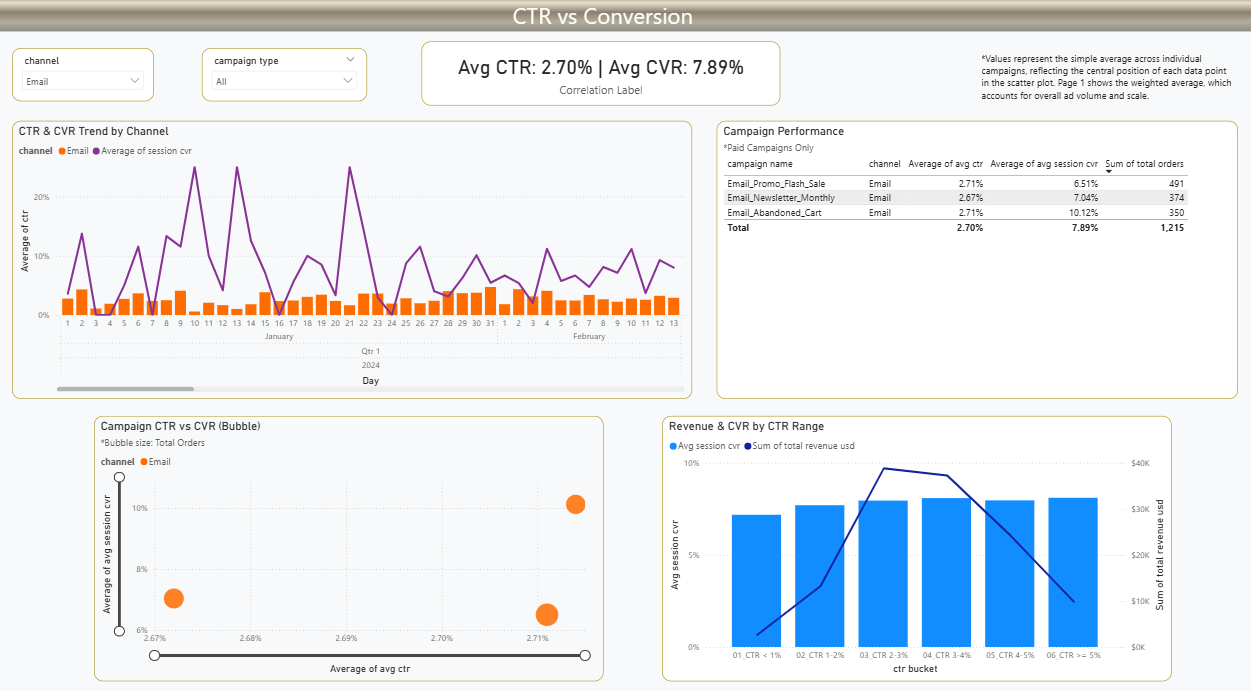

This screenshot's page, from the dashboard's own definition file:
{"tool":"powerbi","page":{"name":"CTR vs Conversion","canvas":[1920,1080],"ordinal":1},"visuals":[{"type":"scatterChart","title":"Campaign CTR vs CVR (Bubble)","fields":{"Category":["v_campaign_ctr_cvr_scatter.campaign_name"],"Series":["v_campaign_ctr_cvr_scatter.channel"],"X":["Avg(v_campaign_ctr_cvr_scatter.avg_ctr)"],"Y":["Avg(v_campaign_ctr_cvr_scatter.avg_session_cvr)"],"Size":["Sum(v_campaign_ctr_cvr_scatter.total_orders)"]},"box":[225.2,606.1,735.5,382.8],"z":0},{"type":"lineClusteredColumnComboChart","title":"CTR & CVR Trend by Channel","fields":{"Y":["Avg(v_campaign_daily_ctr_cvr.ctr)"],"Y2":["Avg(v_campaign_daily_ctr_cvr.session_cvr)"],"Series":["v_campaign_daily_ctr_cvr.channel"],"Category":["v_campaign_daily_ctr_cvr.date.Variation.Date Hierarchy.Year","v_campaign_daily_ctr_cvr.date.Variation.Date Hierarchy.Quarter","v_campaign_daily_ctr_cvr.date.Variation.Date Hierarchy.Month","v_campaign_daily_ctr_cvr.date.Variation.Date Hierarchy.Day"]},"box":[107,180.1,981.3,401.5],"z":1000},{"type":"textbox","box":[724.3,0,471,65.7],"z":2000},{"type":"card","fields":{"Values":["_measure.Correlation Label"]},"box":[698,65.7,517.9,91.9],"z":3000},{"type":"tableEx","title":"Campaign Performance","fields":{"Values":["v_campaign_ctr_cvr_scatter.campaign_name","v_campaign_ctr_cvr_scatter.channel","Avg(v_campaign_ctr_cvr_scatter.avg_ctr)","Avg(v_campaign_ctr_cvr_scatter.avg_session_cvr)","Sum(v_campaign_ctr_cvr_scatter.total_orders)"]},"box":[1123.9,180.1,752.4,401.5],"z":4000},{"type":"slicer","fields":{"Values":["dim_channel.channel"]},"box":[107,75.1,204.5,76.9],"z":5000},{"type":"slicer","fields":{"Values":["dim_campaign_type.campaign_type"]},"box":[380.9,75.1,238.3,76.9],"z":6000},{"type":"textbox","box":[1501.1,75.1,375.3,122],"z":7000},{"type":"lineStackedColumnComboChart","title":"Revenue & CVR by CTR Range","fields":{"Category":["v_ctr_bucket_analysis.ctr_bucket"],"Y2":["Sum(v_ctr_bucket_analysis.total_revenue_usd)"],"Y":["Avg(v_ctr_bucket_analysis.avg_session_cvr)"]},"box":[1045.1,606.1,735.5,382.8],"z":8000}]}

Visuals, with their boxes in screenshot pixels (x1, y1, x2, y2), scaled from the page's 1920x1080 canvas onto the 1251x691 screenshot:
"Campaign CTR vs CVR (Bubble)" scatterChart: locate(147, 388, 626, 633)
"CTR & CVR Trend by Channel" lineClusteredColumnComboChart: locate(70, 115, 709, 372)
textbox: locate(472, 0, 779, 42)
card - _measure.Correlation Label: locate(455, 42, 792, 101)
"Campaign Performance" tableEx: locate(732, 115, 1223, 372)
slicer - dim_channel.channel: locate(70, 48, 203, 97)
slicer - dim_campaign_type.campaign_type: locate(248, 48, 403, 97)
textbox: locate(978, 48, 1223, 126)
"Revenue & CVR by CTR Range" lineStackedColumnComboChart: locate(681, 388, 1160, 633)
